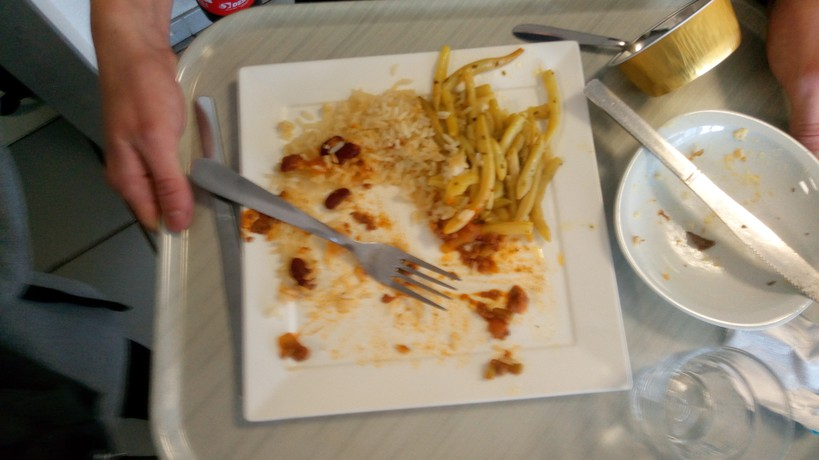cutlery: (584, 74, 819, 311), (186, 156, 462, 317), (191, 91, 251, 378), (510, 11, 671, 55)
orga: (311, 79, 565, 211), (469, 286, 537, 335)
trash: (611, 3, 757, 92)
